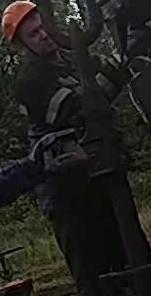gloves: (110, 26, 149, 76)
helmet: (1, 0, 37, 42)
vest: (13, 55, 126, 193)
